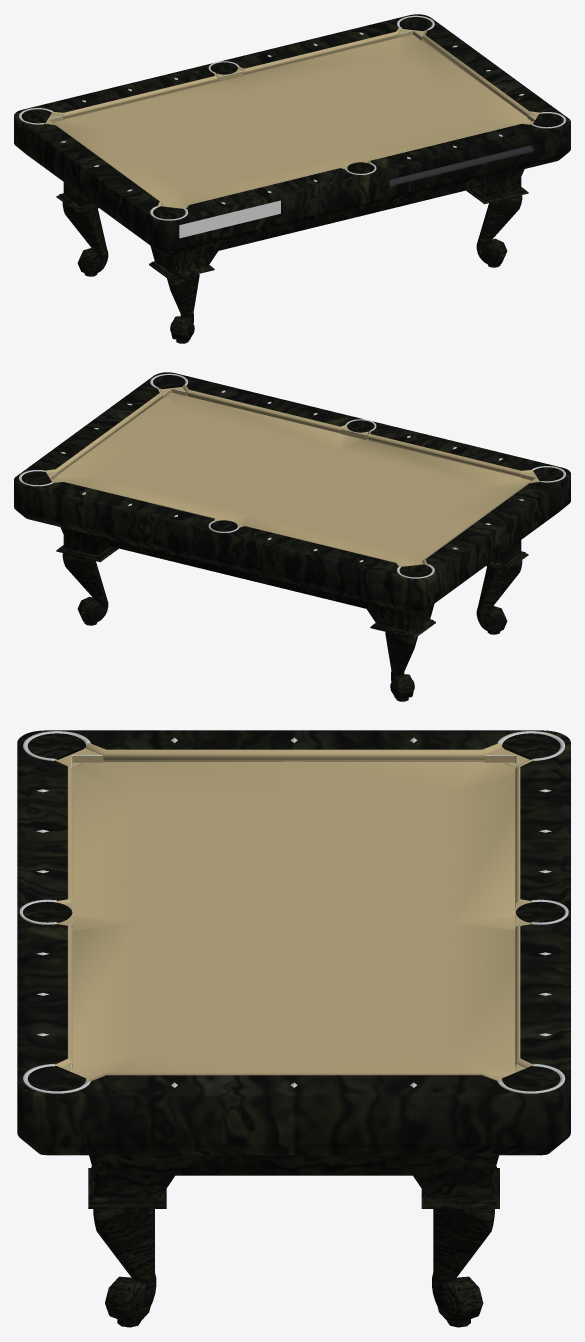
The model's file is curvy legs.fbx.
3 renders of one model, top to bottom at view 1: azimuth 30°, elevation 25°; view 2: azimuth 150°, elevation 25°; view 3: azimuth 270°, elevation 25°, orthographic. The views are drawn at different scales.
Visible parts, largest first — view 1: table.001, 4ball_fillers.001, score.003; view 2: table.001, 4ball_fillers.001; view 3: table.001, 4ball_fillers.001.
Boxes of the visible parts, bbox=[...] form: table.001: bbox=[14, 14, 570, 343]; 4ball_fillers.001: bbox=[21, 17, 563, 219]; score.003: bbox=[179, 200, 280, 238]; table.001: bbox=[14, 372, 570, 701]; 4ball_fillers.001: bbox=[21, 375, 563, 577]; table.001: bbox=[17, 730, 570, 1327]; 4ball_fillers.001: bbox=[23, 733, 565, 1091].
Size of the model in its own units: 250 by 87.36 by 161.
